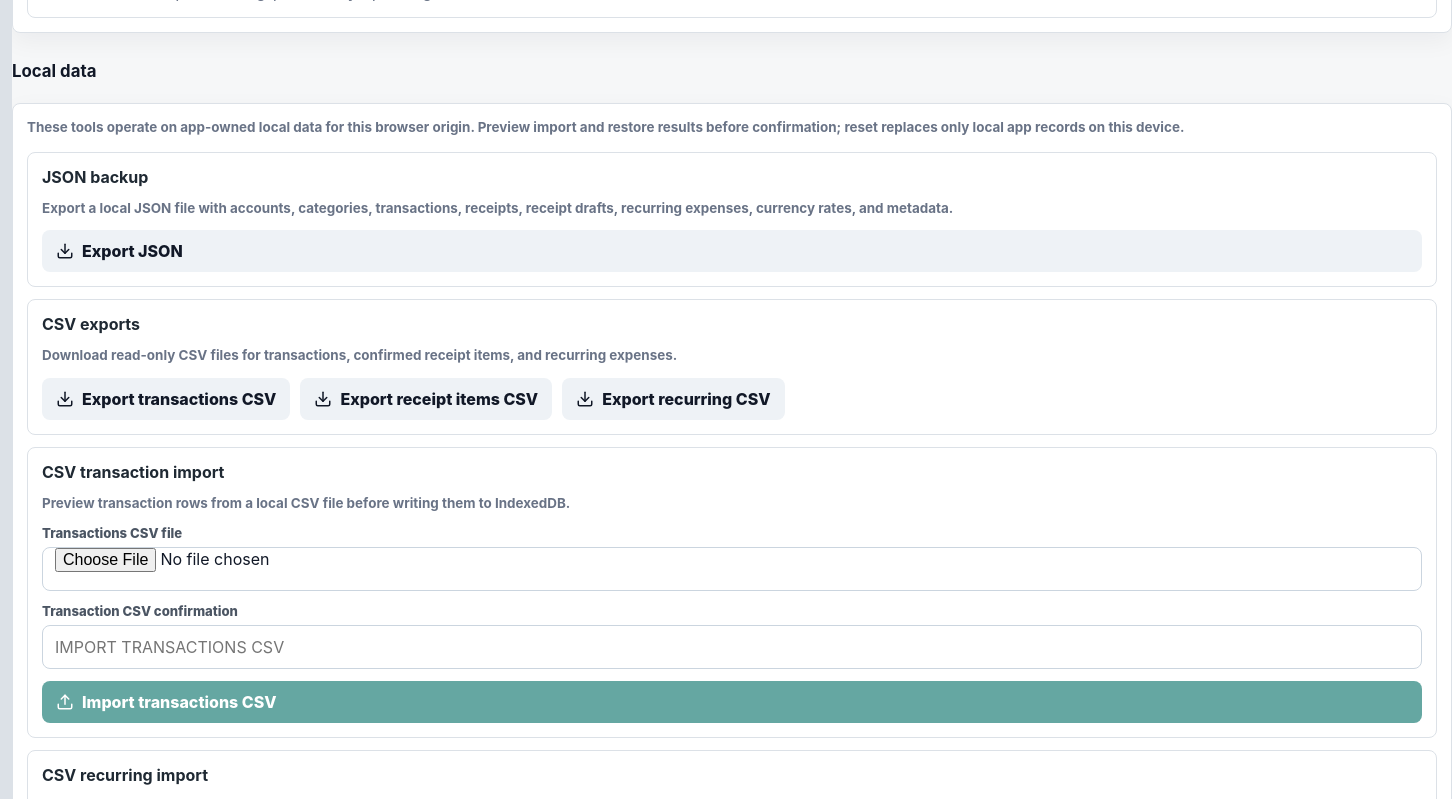
SettingsPage local data tools › downloads a transactions CSV from the export action
(page scrolled)
Step 1. Click the button "Export transactions CSV" → point(166, 399), box [42,378,290,420]
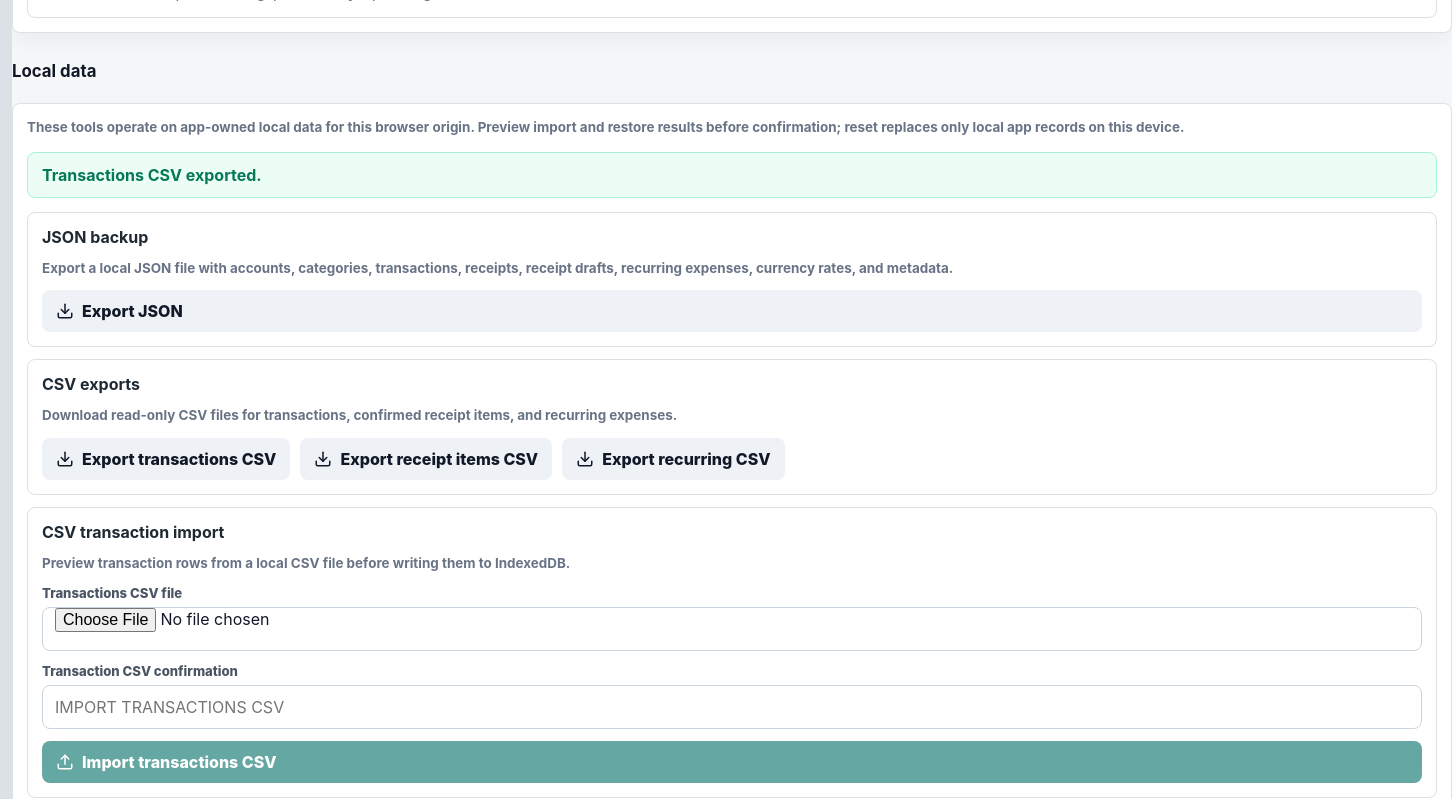
Now the message reads "Transactions CSV exported.", box [42,165,262,185]
